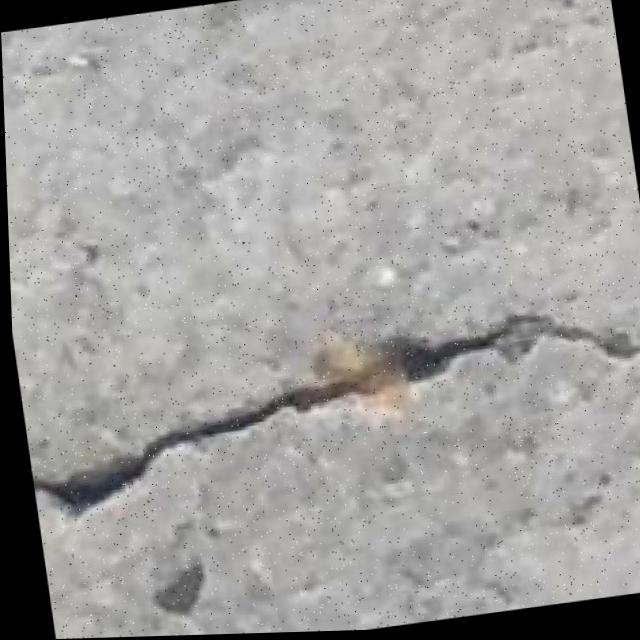Crack: (13, 300, 640, 536)
